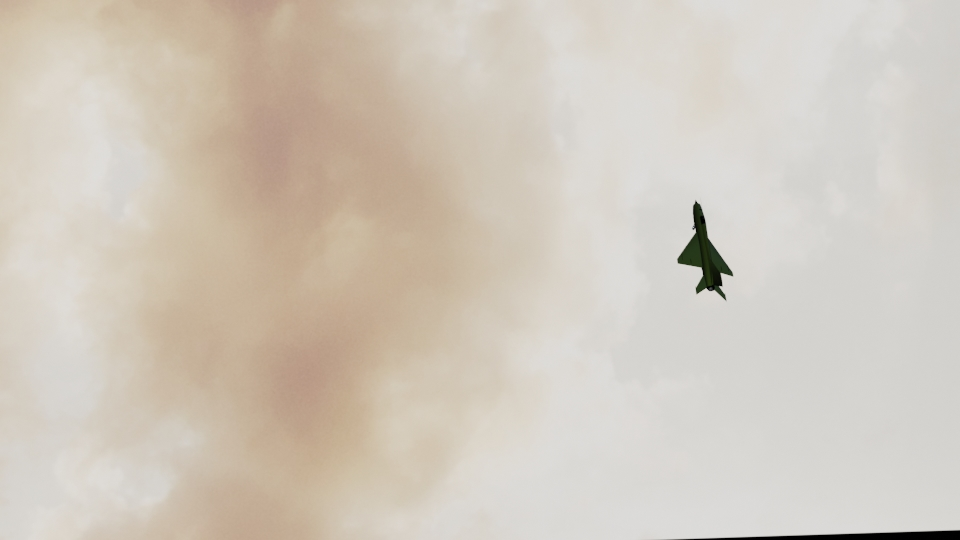plane: (675, 200, 732, 301)
